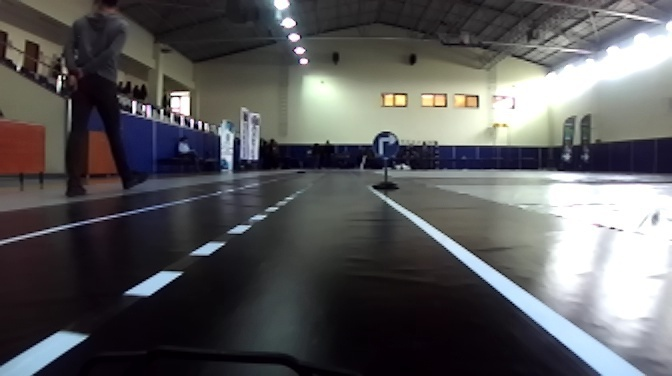saga_donus: (370, 130, 400, 160)
